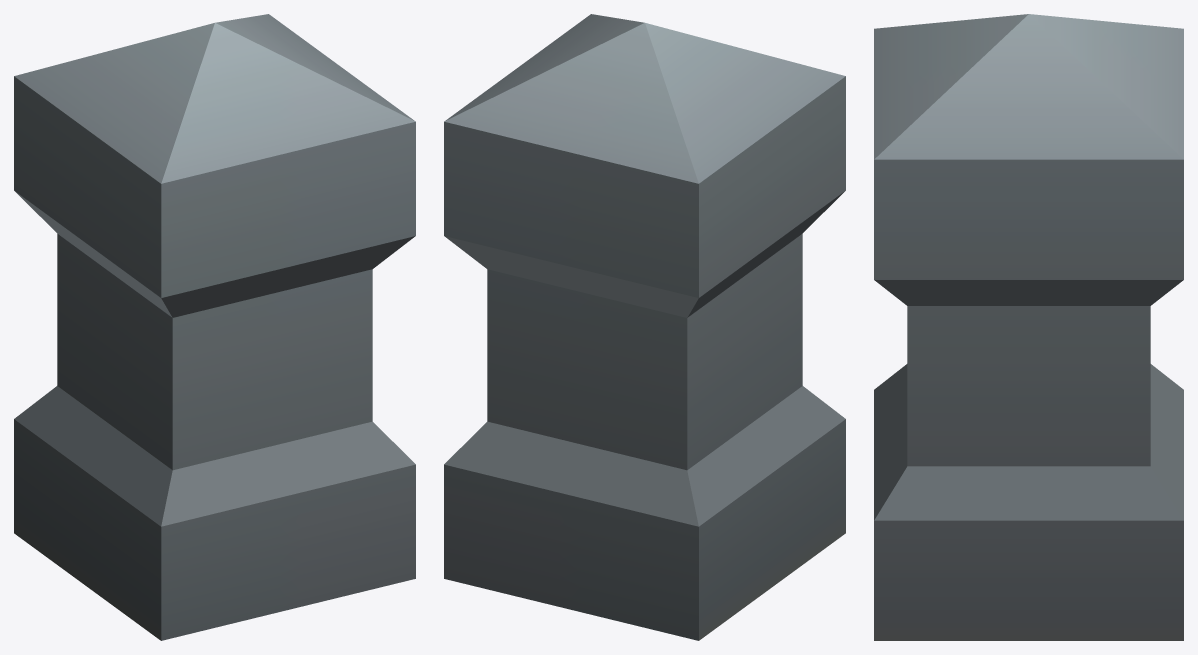
Rendered from kay-coluna-masmorra.gltf.
3 renders of one model, left to right at view 1: azimuth 30°, elevation 25°; view 2: azimuth 150°, elevation 25°; view 3: azimuth 270°, elevation 25°, orthographic. The views are drawn at different scales.
Parts seen in each view (by area): view 1: column; view 2: column; view 3: column.
Part boxes in pixels (x1,y1,x2,y2): column: [14, 14, 415, 640]; column: [444, 14, 845, 640]; column: [874, 14, 1183, 640].
Size of the model in its own units: 0.4551 by 0.91 by 0.4551.
1 material, 1 textured.
